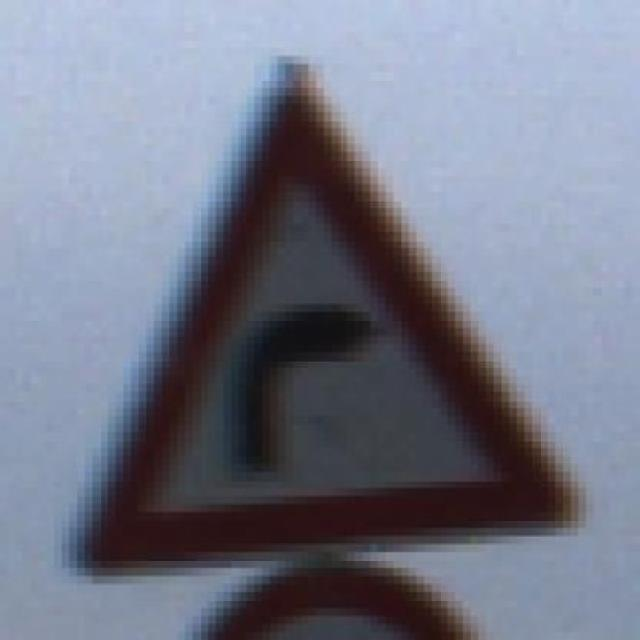Dangerous Rright Curve Ahead: (69, 49, 609, 576)
